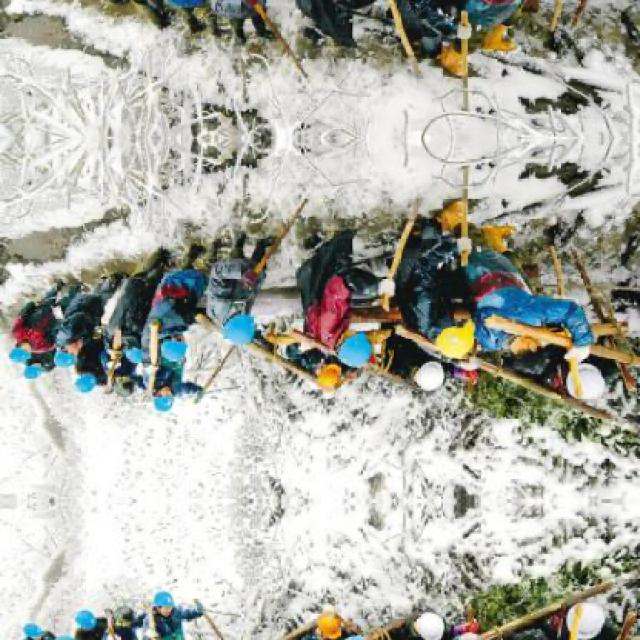con casco: (555, 358, 611, 409), (22, 328, 88, 367), (137, 326, 195, 364), (322, 333, 378, 366), (149, 329, 192, 364), (147, 389, 178, 416), (226, 318, 258, 339)
